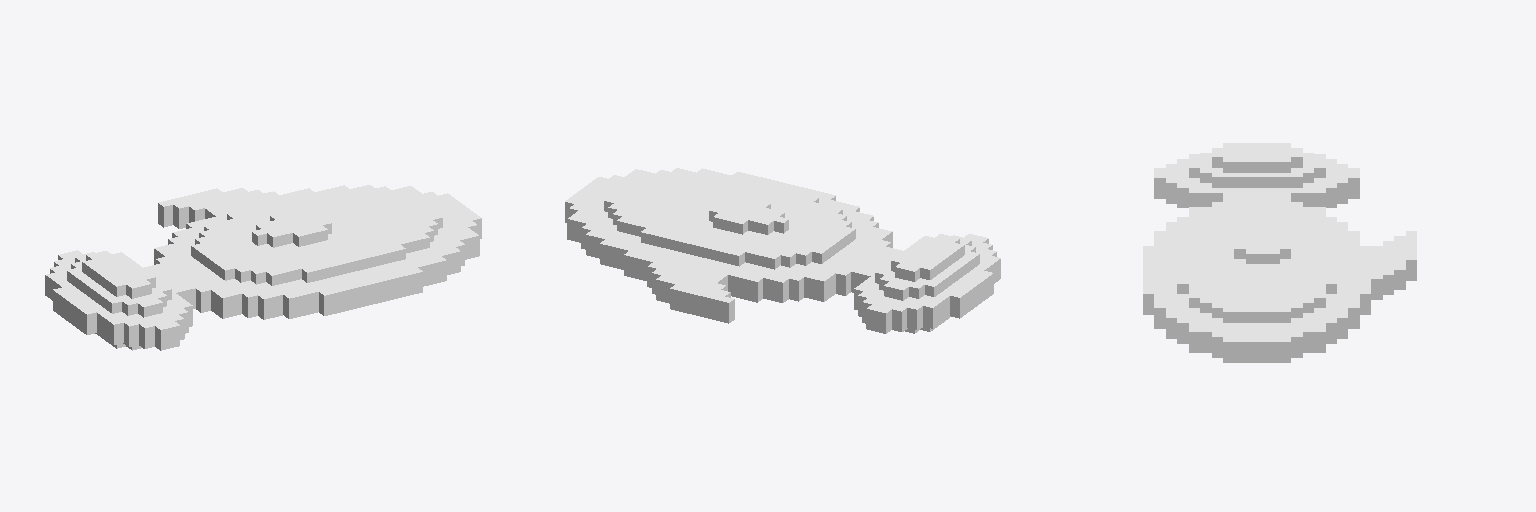
The model's file is Fish.obj.
The picture shows the model from 3 angles: view 1: azimuth 30°, elevation 25°; view 2: azimuth 150°, elevation 25°; view 3: azimuth 270°, elevation 25°; orthographic projection.
Parts seen in each view (by area): view 1: object 1; view 2: object 1; view 3: object 1.
Part boxes in pixels (x1,y1,x2,y2): object 1: (45, 185, 481, 350); object 1: (565, 168, 1000, 333); object 1: (1143, 143, 1416, 362).
Size of the model in its own units: 4 by 0.6 by 2.4.